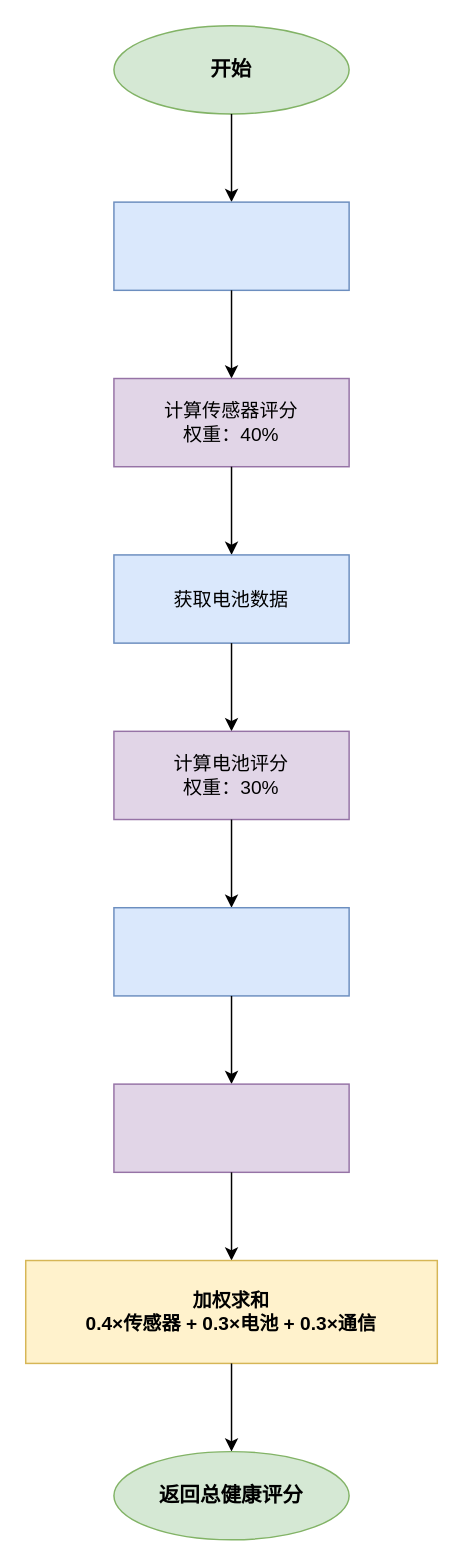
The diagram is 463 pixels wide and 1566 high, and some of its shapes have lost their labels. The box of each missing label's shape, as (x1, y1, x2, y2) in pixels:
获取传感器数据: (112, 201, 349, 290)
获取信号数据: (112, 906, 349, 996)
计算通信评分 权重：30%: (112, 1083, 349, 1172)
